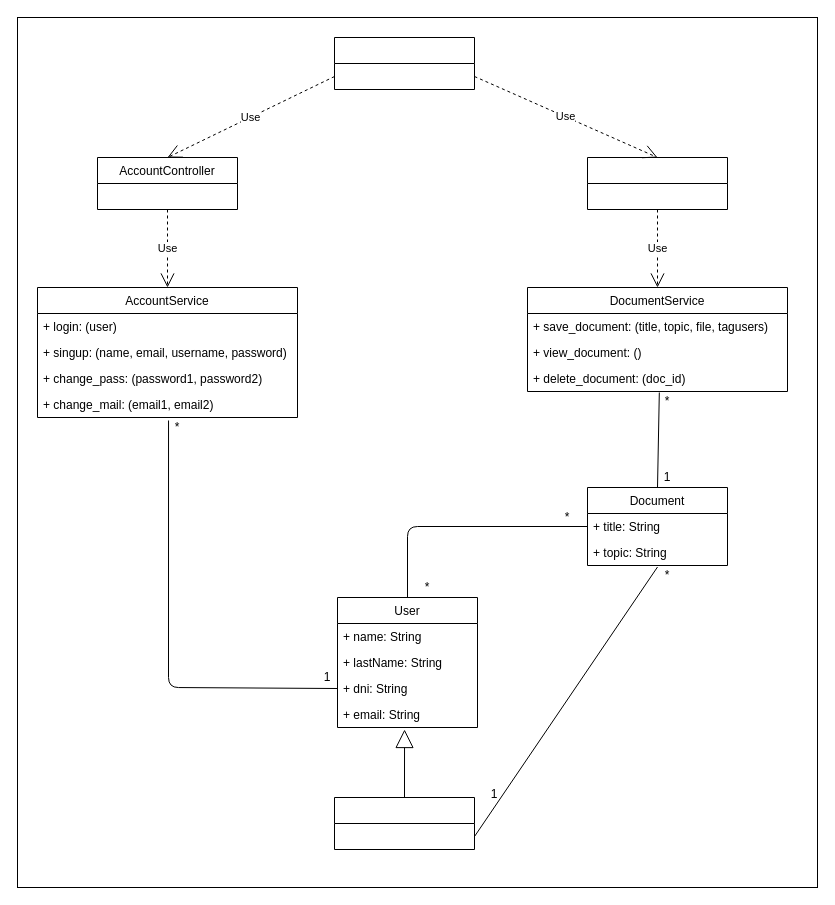
Image size: 835x905. Some labels were removed from this diagram. The shapes that lost their labels are listed below. From the top down, each one's centre as x and y in pixels, then its label:
At point 404,63: "App".
At point 657,183: "DocumentController".
At point 404,823: "Admin".
